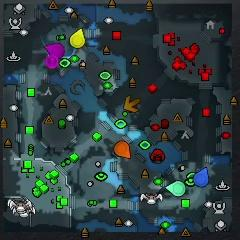Other: (45, 55, 59, 69)
p1: (194, 167, 208, 187)
p2: (166, 181, 185, 197)
p3: (45, 43, 64, 60)
p4: (70, 28, 86, 49)
p5: (114, 141, 130, 158)
x5: (124, 96, 140, 112)
